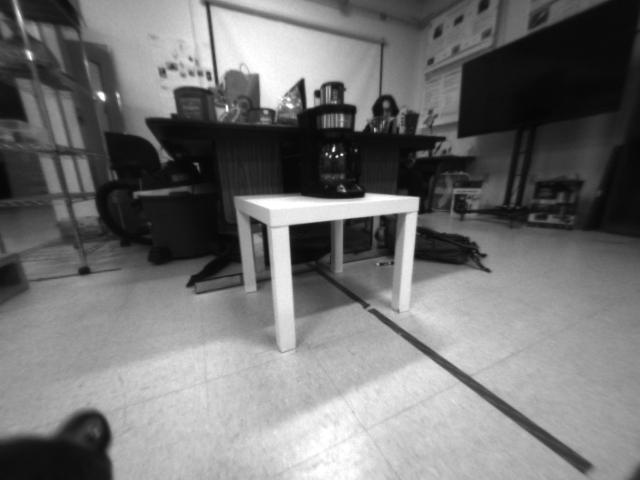coffee_pot: (292, 102, 370, 203)
